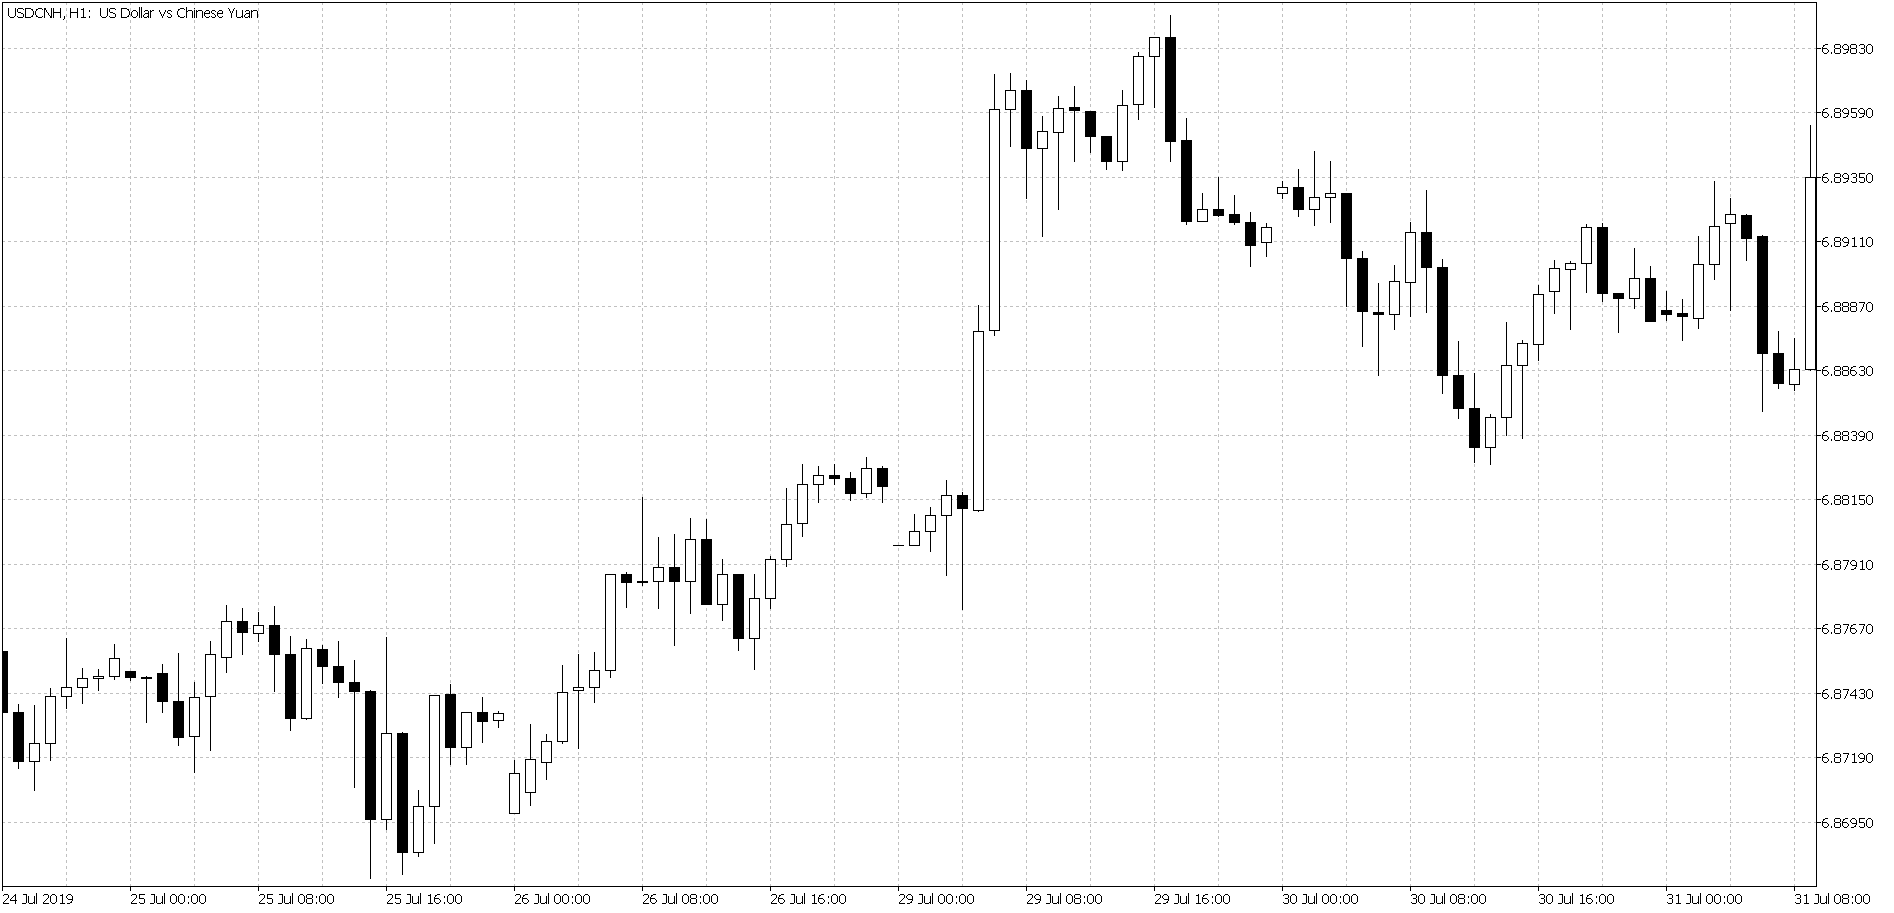3whitesoldiers: (188, 605, 233, 767), (507, 725, 554, 832)
eveningDojiStar: (1052, 82, 1098, 210)
